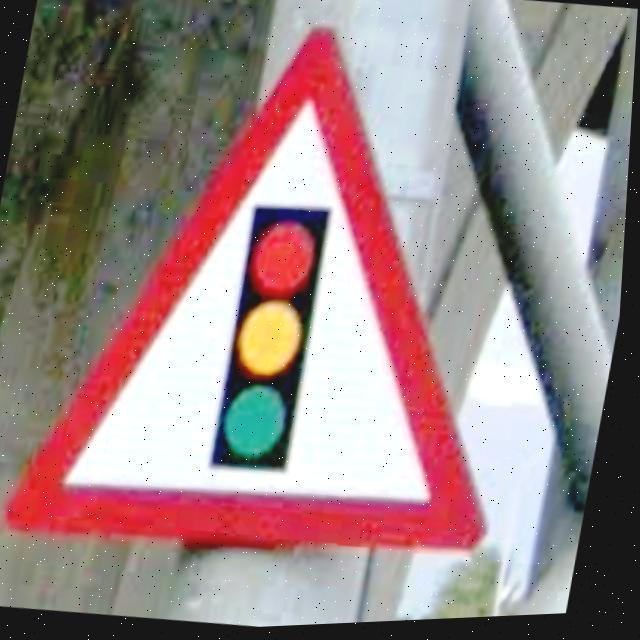signalahead: (6, 28, 495, 560)
